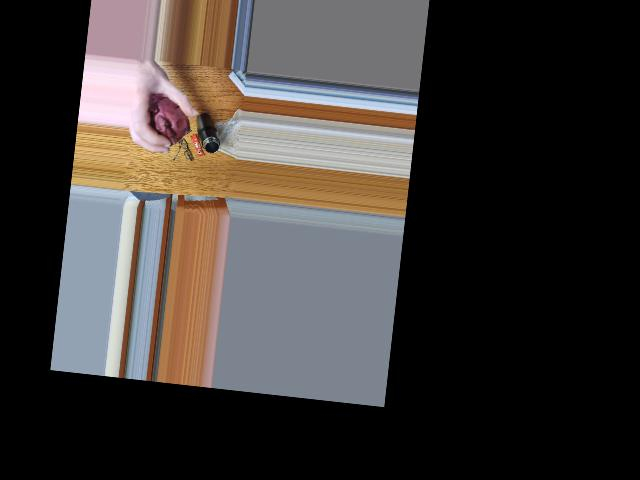onion: (146, 92, 182, 140)
